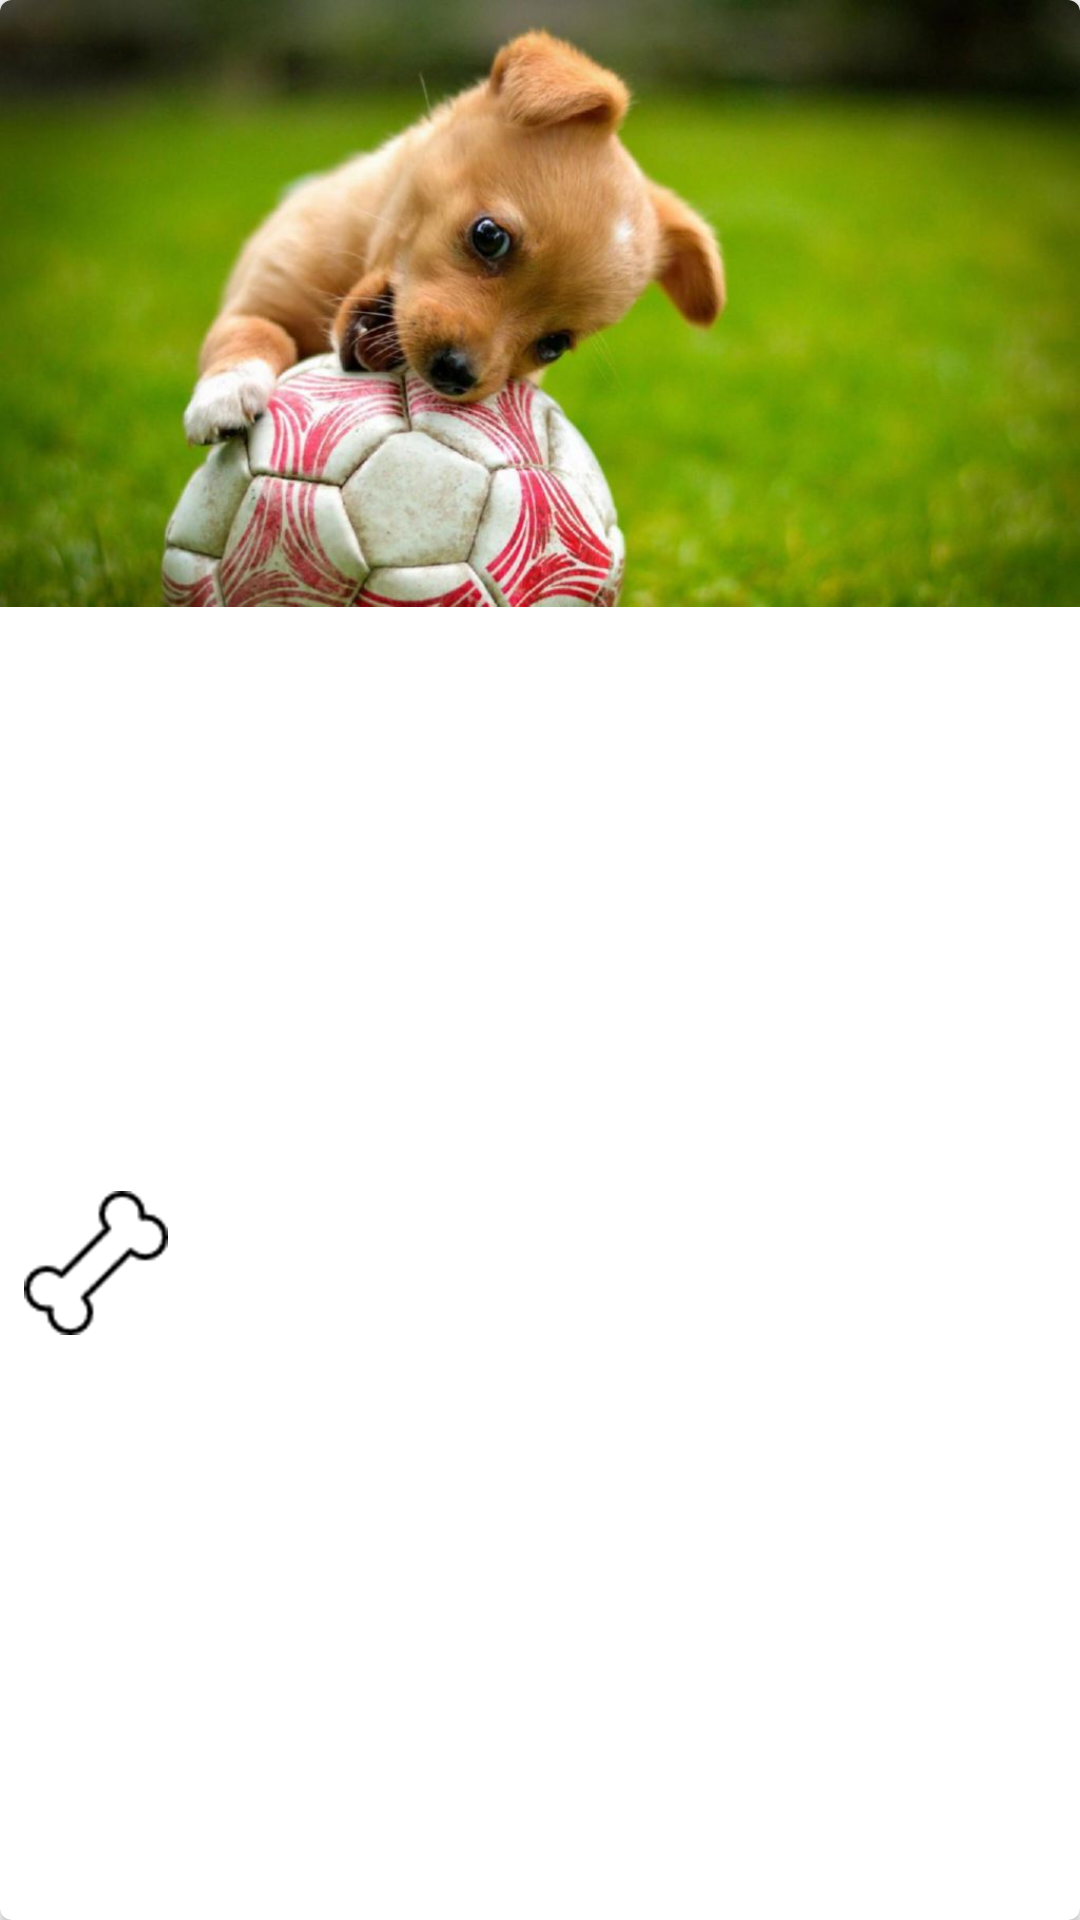

Icon bounding boxes for this 1080x1920 phone screenshot, format (left=x1, top=y1, right=x2, bottom=y2):
hueso blanco: (left=24, top=1191, right=168, bottom=1335)
